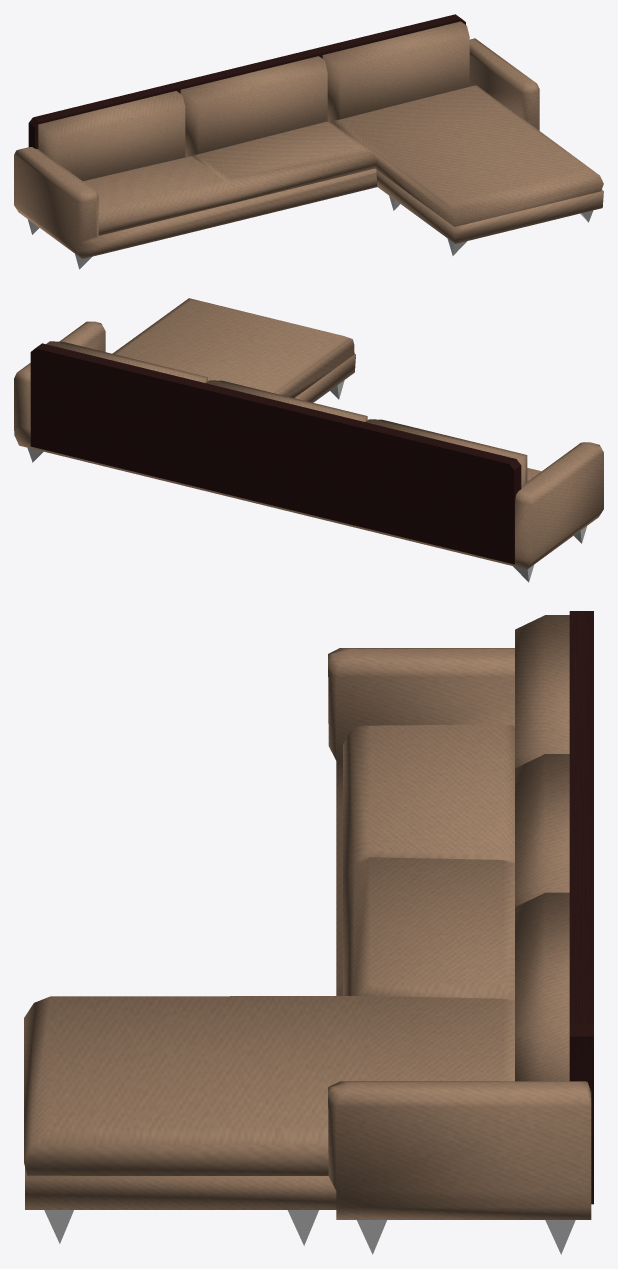
The model's file is Chaise_Sofa_A_07.FBX.
3 renders of one model, top to bottom at view 1: azimuth 30°, elevation 25°; view 2: azimuth 150°, elevation 25°; view 3: azimuth 270°, elevation 25°, orthographic. The views are drawn at different scales.
Parts seen in each view (by area): view 1: Chaise_Sofa_A; view 2: Chaise_Sofa_A; view 3: Chaise_Sofa_A.
Boxes of the visible parts, x1=… form: Chaise_Sofa_A: x1=14, y1=14, x2=603, y2=269; Chaise_Sofa_A: x1=14, y1=298, x2=603, y2=582; Chaise_Sofa_A: x1=24, y1=611, x2=593, y2=1254.
Size of the model in its own units: 685 by 157 by 366.
